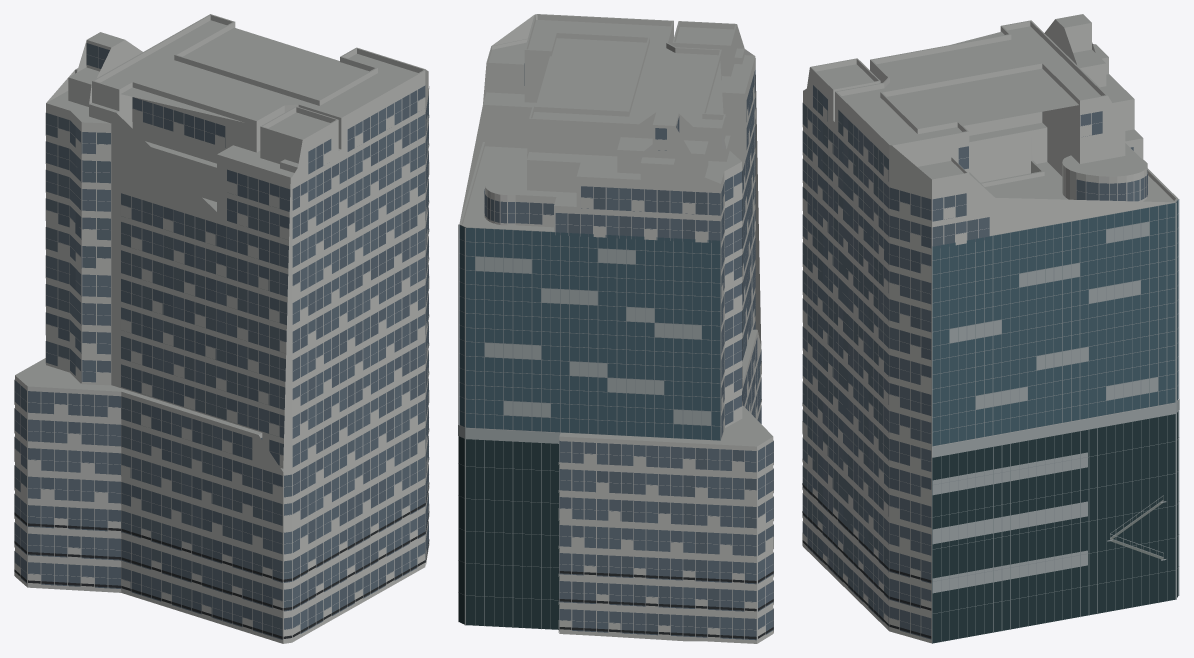
Rendered from fukuras.glb.
3 renders of one model, left to right at view 1: azimuth 30°, elevation 25°; view 2: azimuth 150°, elevation 25°; view 3: azimuth 270°, elevation 25°, orthographic. The views are drawn at different scales.
Visible parts, largest first — view 1: fukuras_wall, fukuras_glass1, fukuras_glass0, fukuras_glass2, fukuras_spandrel, fukuras_roof, fukuras_frame, fukuras_sign_housing; view 2: fukuras_curtain_glass, fukuras_wall, fukuras_roof, fukuras_circulation_glass, fukuras_glass2, fukuras_glass1, fukuras_spandrel, fukuras_mullion_silver, fukuras_glass0, fukuras_infill_silver, fukuras_frame, fukuras_sign_housing; view 3: fukuras_curtain_glass, fukuras_wall, fukuras_circulation_glass, fukuras_roof, fukuras_glass1, fukuras_infill_silver, fukuras_mullion_silver, fukuras_glass0, fukuras_spandrel, fukuras_glass2, fukuras_frame, fukuras_sign_housing.
Part boxes in pixels (bbox=[...]): fukuras_wall: bbox=[15, 15, 428, 643]; fukuras_glass1: bbox=[14, 43, 428, 639]; fukuras_glass0: bbox=[14, 47, 428, 629]; fukuras_glass2: bbox=[14, 97, 428, 633]; fukuras_spandrel: bbox=[14, 65, 429, 643]; fukuras_roof: bbox=[15, 14, 425, 471]; fukuras_frame: bbox=[14, 43, 428, 633]; fukuras_sign_housing: bbox=[14, 482, 429, 638]; fukuras_curtain_glass: bbox=[459, 225, 720, 440]; fukuras_wall: bbox=[459, 14, 773, 643]; fukuras_roof: bbox=[459, 14, 772, 446]; fukuras_circulation_glass: bbox=[459, 436, 559, 629]; fukuras_glass2: bbox=[484, 69, 773, 639]; fukuras_glass1: bbox=[485, 63, 773, 640]; fukuras_spandrel: bbox=[484, 86, 773, 643]; fukuras_mullion_silver: bbox=[459, 224, 720, 629]; fukuras_glass0: bbox=[487, 73, 773, 637]; fukuras_infill_silver: bbox=[458, 224, 720, 625]; fukuras_frame: bbox=[484, 73, 773, 637]; fukuras_sign_housing: bbox=[558, 570, 773, 639]; fukuras_curtain_glass: bbox=[932, 199, 1178, 446]; fukuras_wall: bbox=[803, 19, 1178, 643]; fukuras_circulation_glass: bbox=[932, 411, 1178, 643]; fukuras_roof: bbox=[803, 14, 1177, 202]; fukuras_glass1: bbox=[802, 85, 1144, 636]; fukuras_infill_silver: bbox=[932, 199, 1179, 643]; fukuras_mullion_silver: bbox=[932, 199, 1178, 641]; fukuras_glass0: bbox=[802, 90, 1147, 612]; fukuras_spandrel: bbox=[802, 106, 1147, 642]; fukuras_glass2: bbox=[802, 113, 1147, 639]; fukuras_frame: bbox=[803, 85, 1145, 636]; fukuras_sign_housing: bbox=[802, 483, 931, 638].
Size of the model in its own units: 73.79 by 105 by 71.1.
